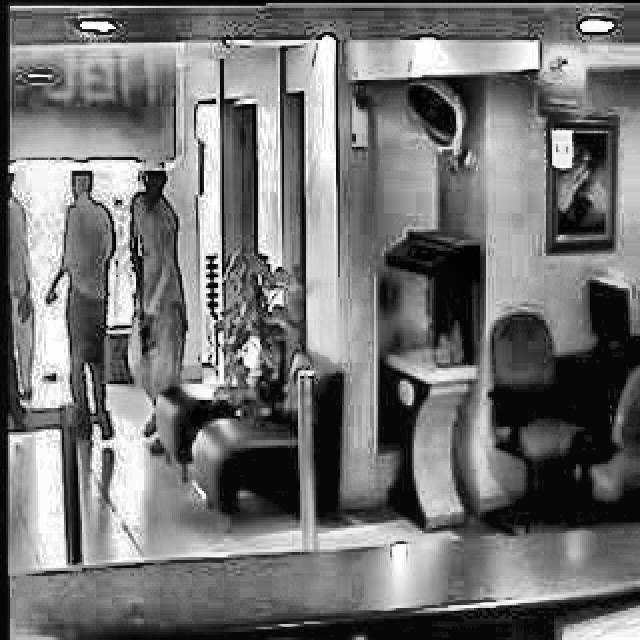robbery: (125, 169, 190, 440)
